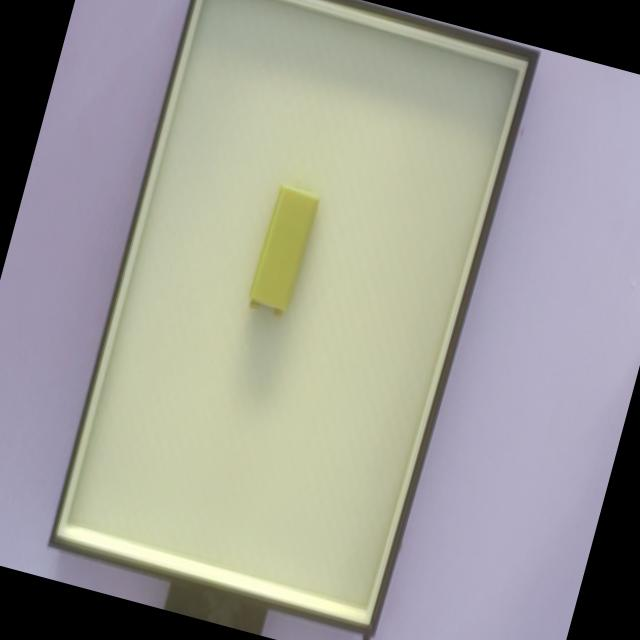bateria: (247, 181, 321, 319)
mesa: (47, 0, 540, 638)
